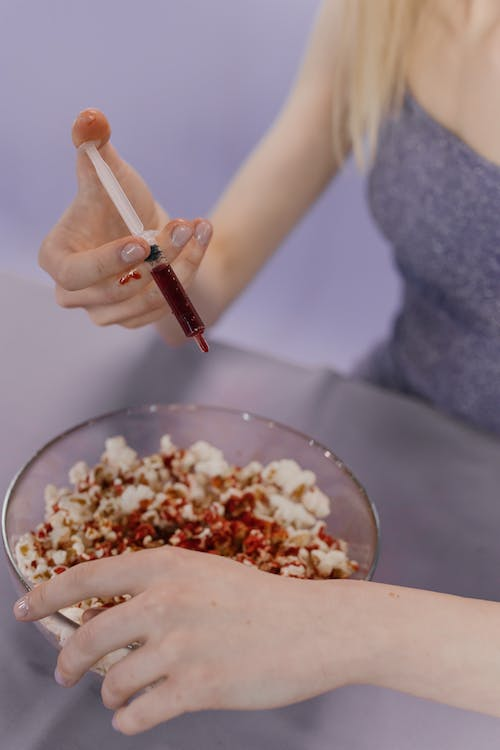blood: (32, 432, 356, 613), (113, 257, 212, 353)
